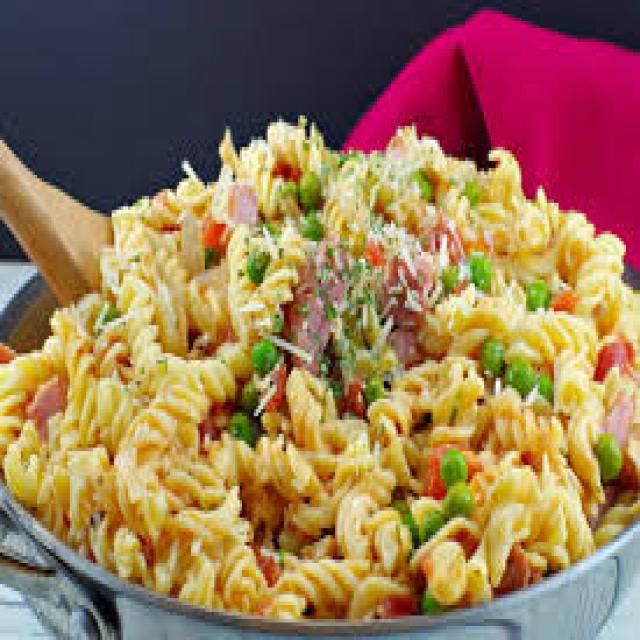organic waste: (102, 108, 638, 476), (0, 290, 638, 539), (67, 489, 596, 608), (591, 430, 619, 476)
